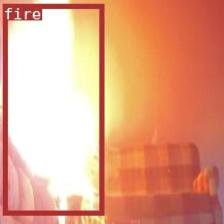fire: (2, 3, 103, 214)
